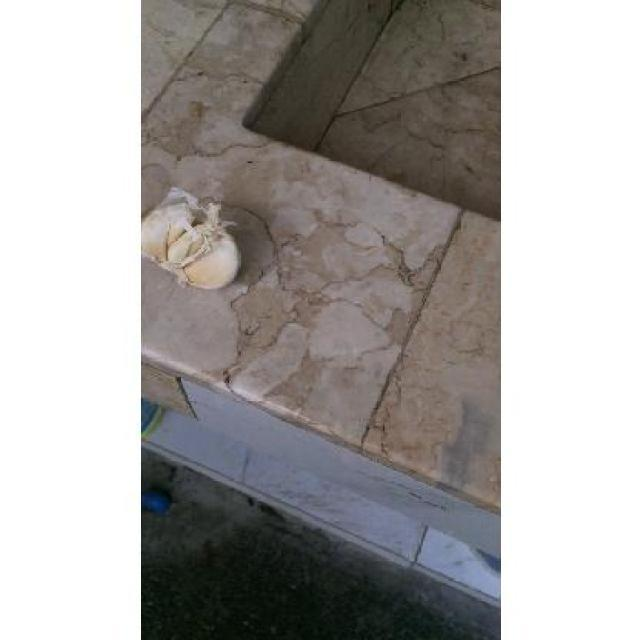garlic: (142, 188, 240, 289)
